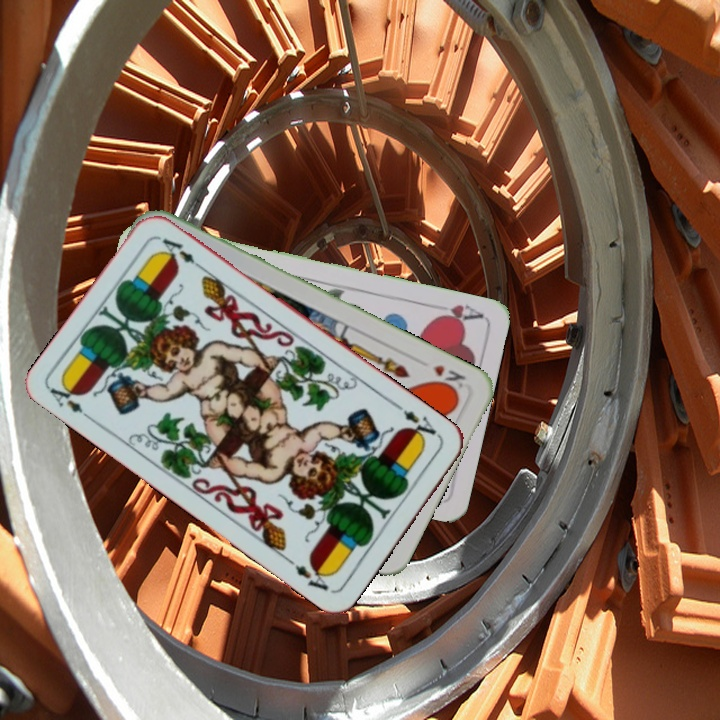EA: (45, 377, 97, 425), (392, 400, 439, 444)
HA: (429, 300, 485, 327)
HK: (428, 360, 468, 395)
